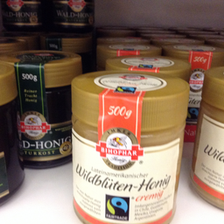honey: (67, 70, 183, 224), (7, 52, 81, 167)
